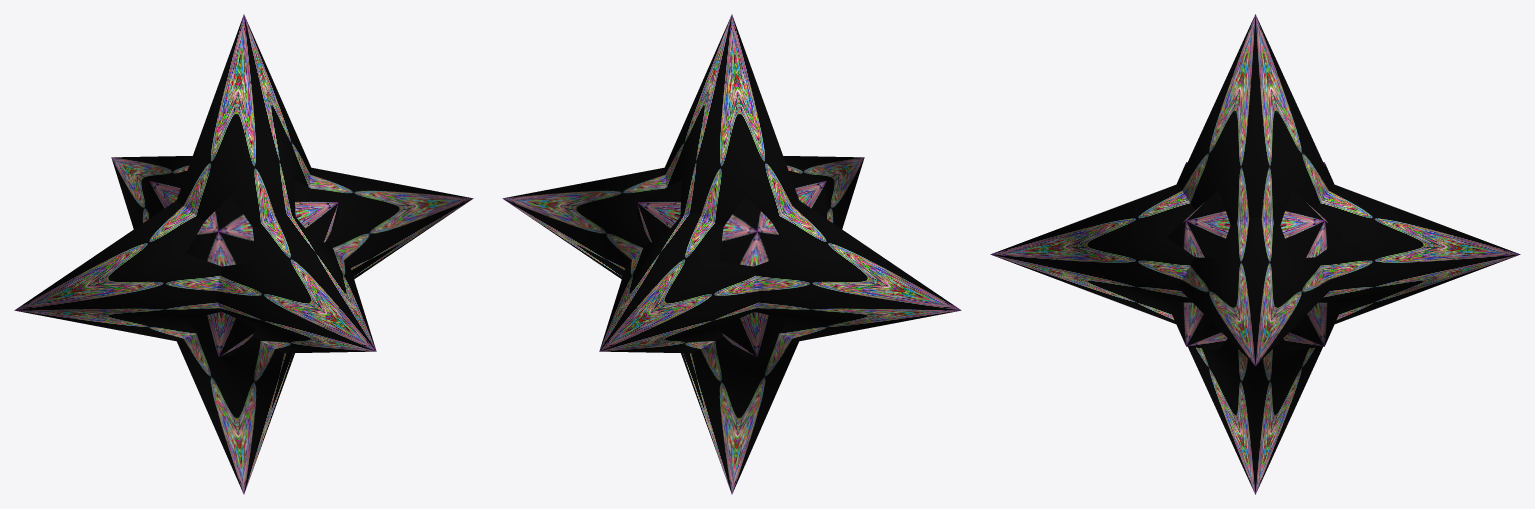
Rendered from 5GreatHexacronicIcositetrahedron.gltf.
The picture shows the model from 3 angles, left to right: view 1: azimuth 30°, elevation 25°; view 2: azimuth 150°, elevation 25°; view 3: azimuth 270°, elevation 25°; orthographic projection.
Visible parts, largest first — view 1: GreatHexacronicIcositetrahedron9; view 2: GreatHexacronicIcositetrahedron9; view 3: GreatHexacronicIcositetrahedron9.
Boxes of the visible parts, <box> form: GreatHexacronicIcositetrahedron9: <box>14,14,473,494</box>; GreatHexacronicIcositetrahedron9: <box>502,14,961,494</box>; GreatHexacronicIcositetrahedron9: <box>990,14,1520,494</box>.
Size of the model in its own units: 2.83 by 2.83 by 2.83.
Materials: 1 (1 with a texture image).
